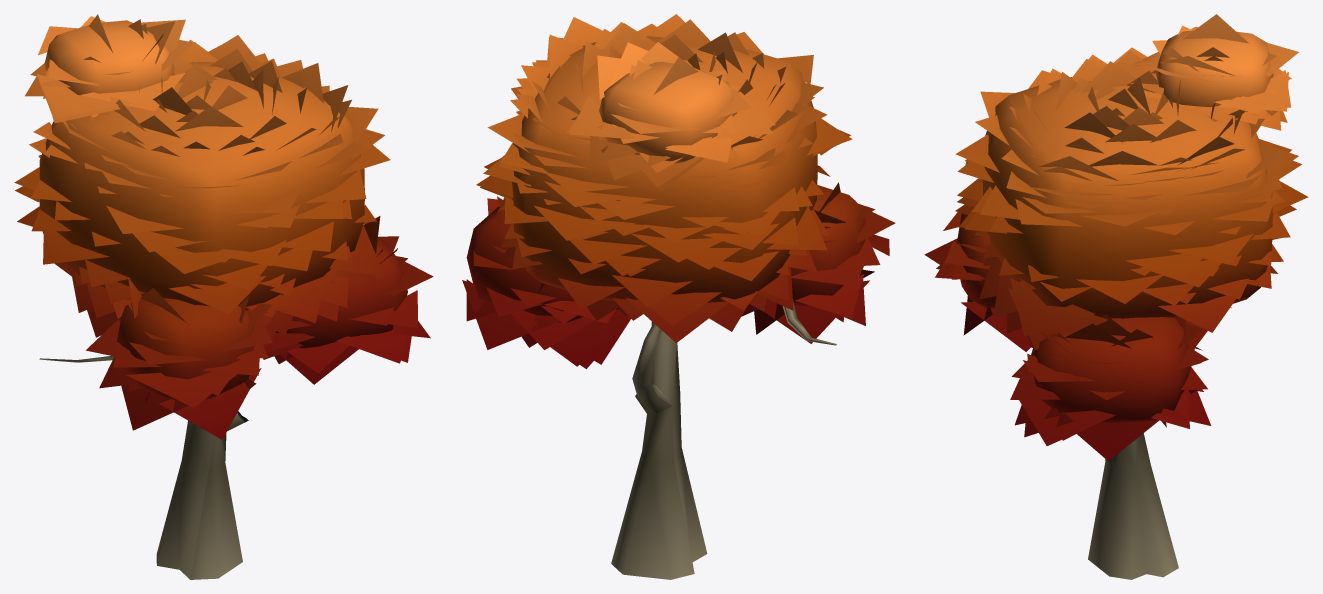
File: Tree_7B.fbx
3 renders of one model, left to right at view 1: azimuth 30°, elevation 25°; view 2: azimuth 150°, elevation 25°; view 3: azimuth 270°, elevation 25°, orthographic. The views are drawn at different scales.
Parts seen in each view (by area): view 1: Tree_7B; view 2: Tree_7B; view 3: Tree_7B.
Boxes of the visible parts, x1,y1,x2,y2 form: Tree_7B: (14, 14, 433, 579); Tree_7B: (462, 14, 895, 579); Tree_7B: (924, 14, 1308, 579).
Size of the model in its own units: 540 by 772 by 518.
